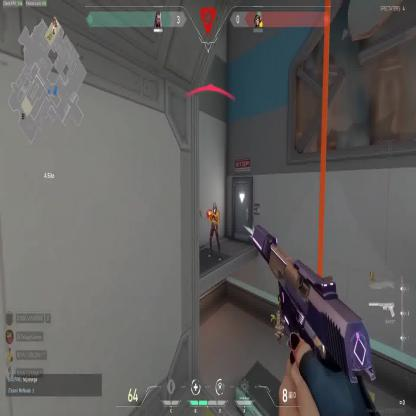enemy: (206, 203, 221, 261)
enemy_head: (213, 203, 217, 213)
